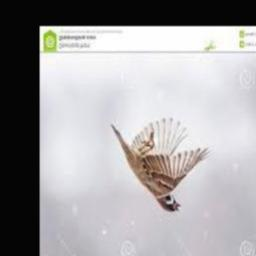Sparrow: (110, 117, 212, 212)
